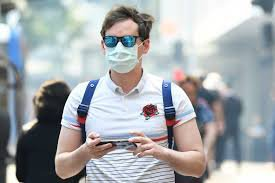mask: (93, 7, 162, 83)
